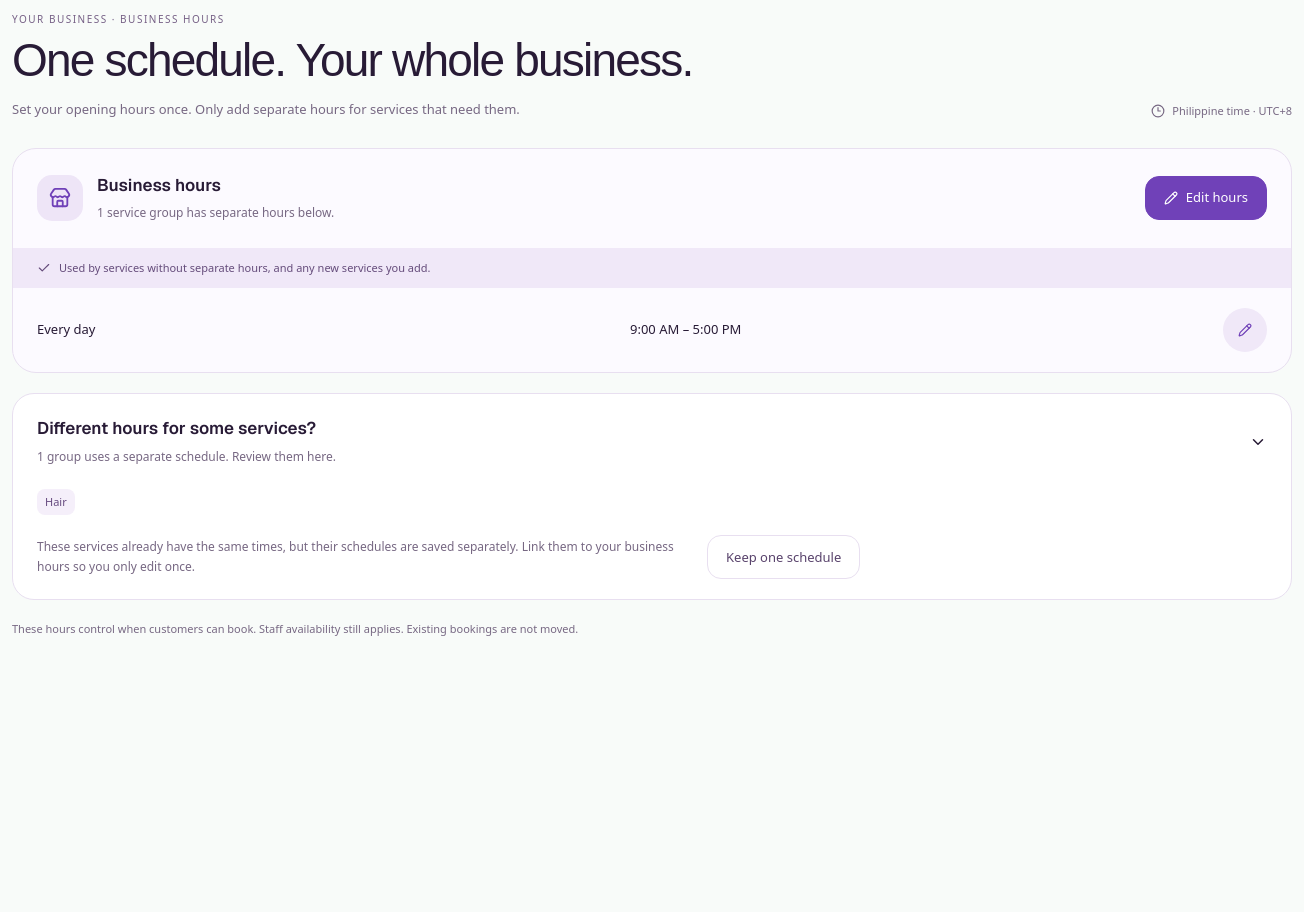
Test case: redesigned business hours › offers consolidation for matching schedules without automatically changing them
Click the button "Keep one schedule". click: [784, 558]
box: [707,536,860,580]
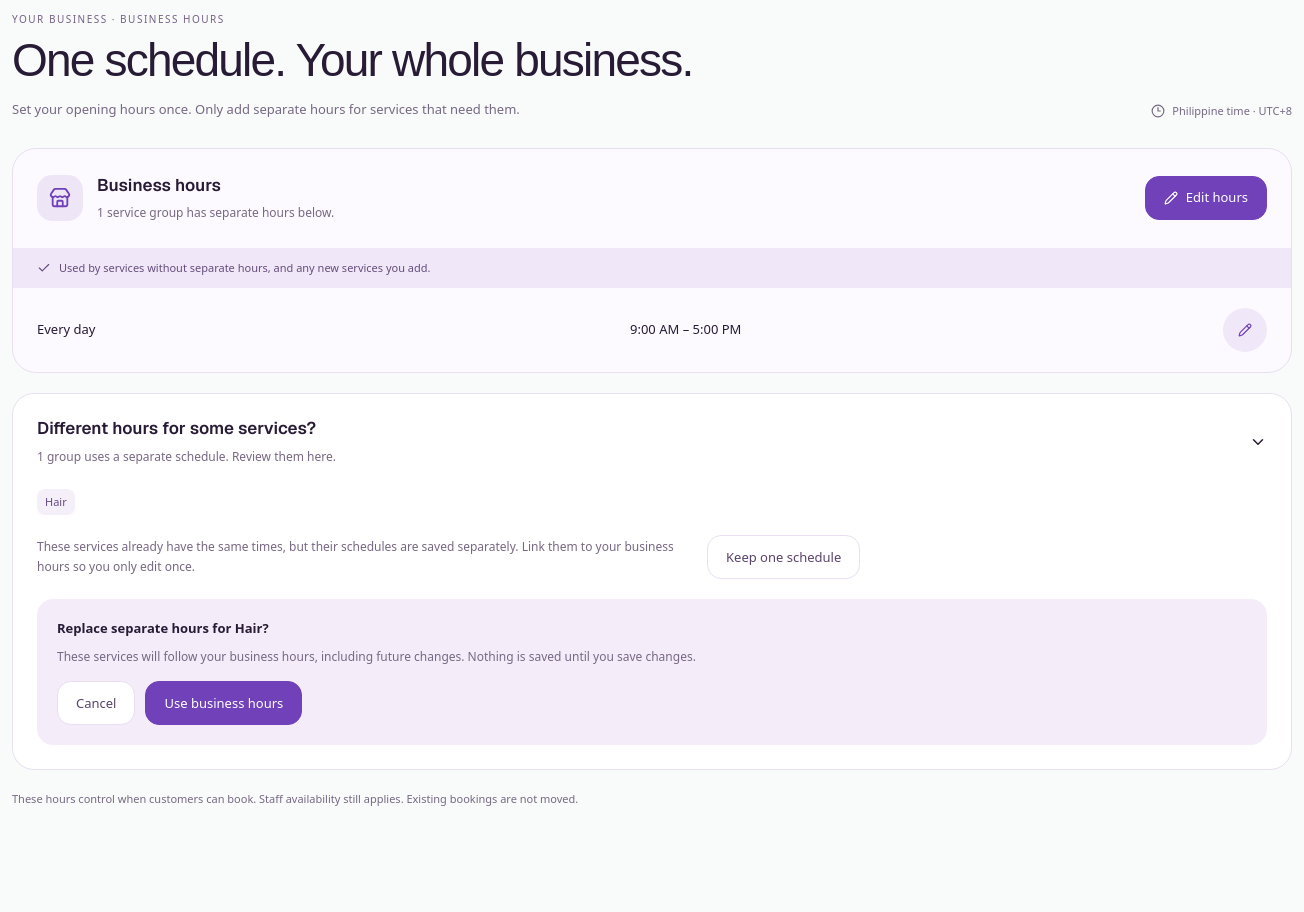
expect the element named "Confirm using business hours" is shown: met, box [37,600,1267,745]
Click the button "Cancel". click: [96, 703]
box: [57,681,136,725]
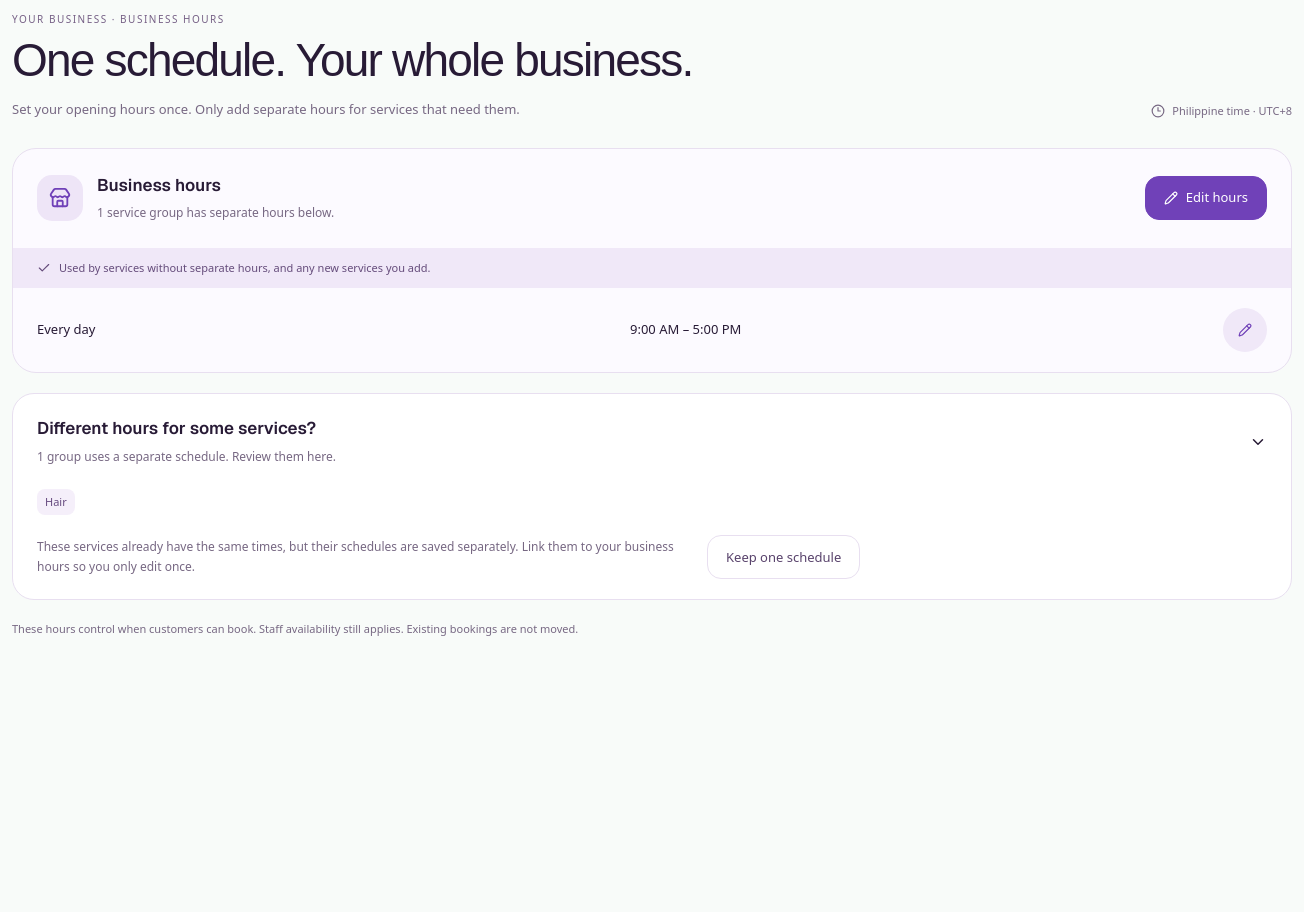
expect the text "Save changes" is gone: met
